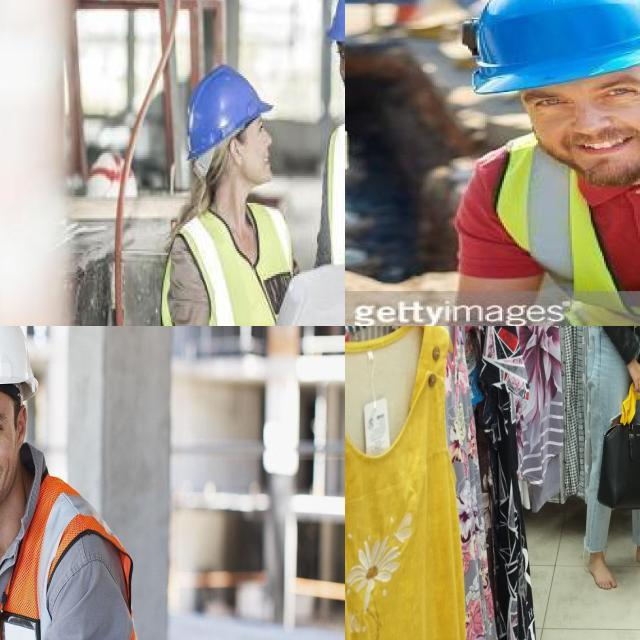Barefoots: (588, 552, 617, 590)
No_Ear-Protection: (10, 395, 32, 452), (227, 137, 245, 169)
No_Glasses: (511, 80, 640, 113), (250, 115, 271, 146), (332, 41, 345, 67)
face_nomask: (511, 74, 640, 187), (235, 115, 277, 195), (0, 383, 19, 517), (333, 41, 345, 116)
head_helmet: (454, 0, 640, 88), (185, 64, 275, 154), (0, 326, 39, 399)
person: (404, 0, 640, 326), (0, 326, 159, 640), (153, 60, 324, 326)
vest: (507, 118, 640, 326), (0, 484, 157, 640), (167, 201, 310, 326)
